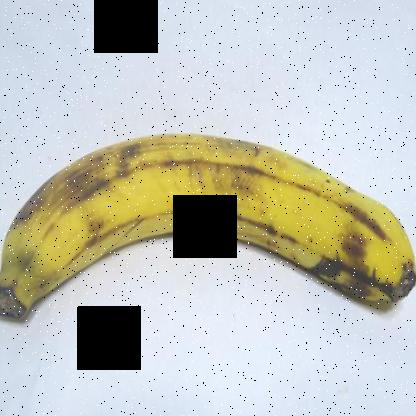overripe: (0, 94, 415, 321)
